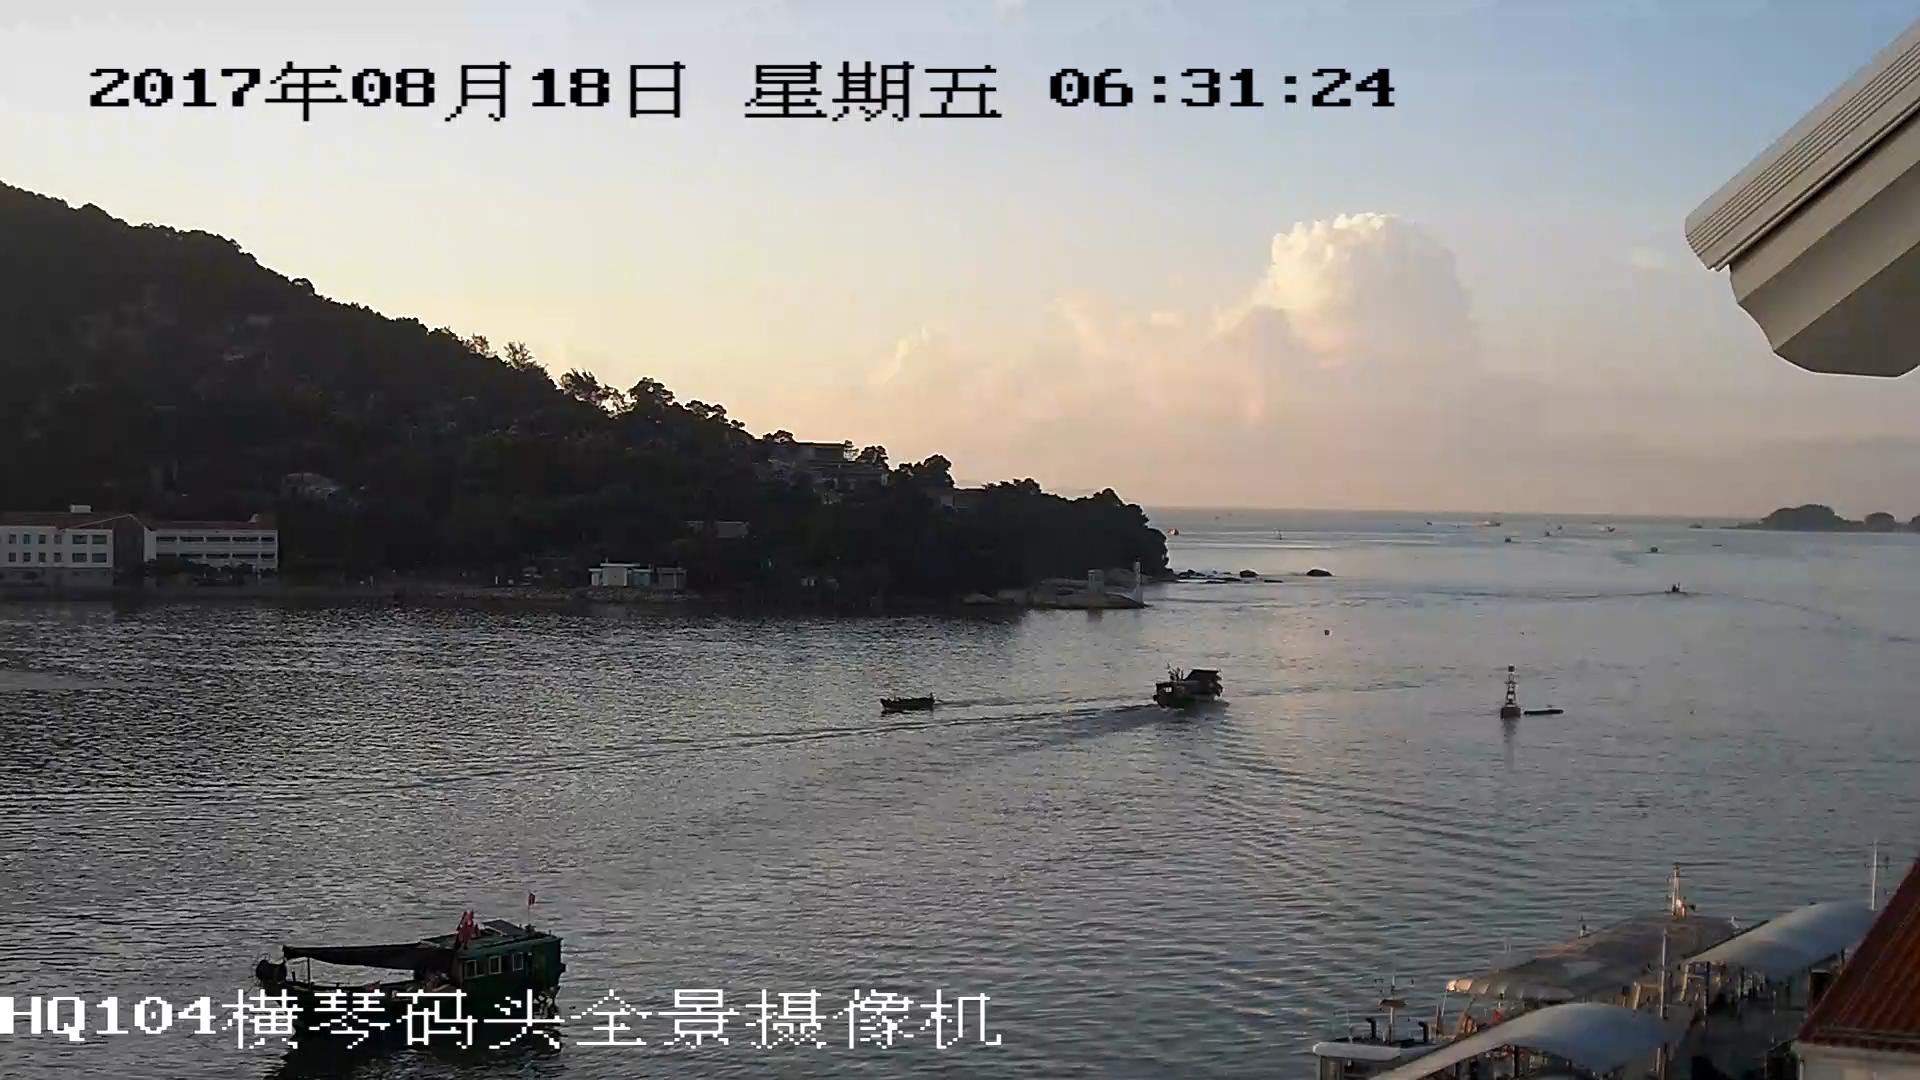fishing boat: (254, 929, 557, 990), (1157, 665, 1225, 708), (875, 694, 943, 710)
